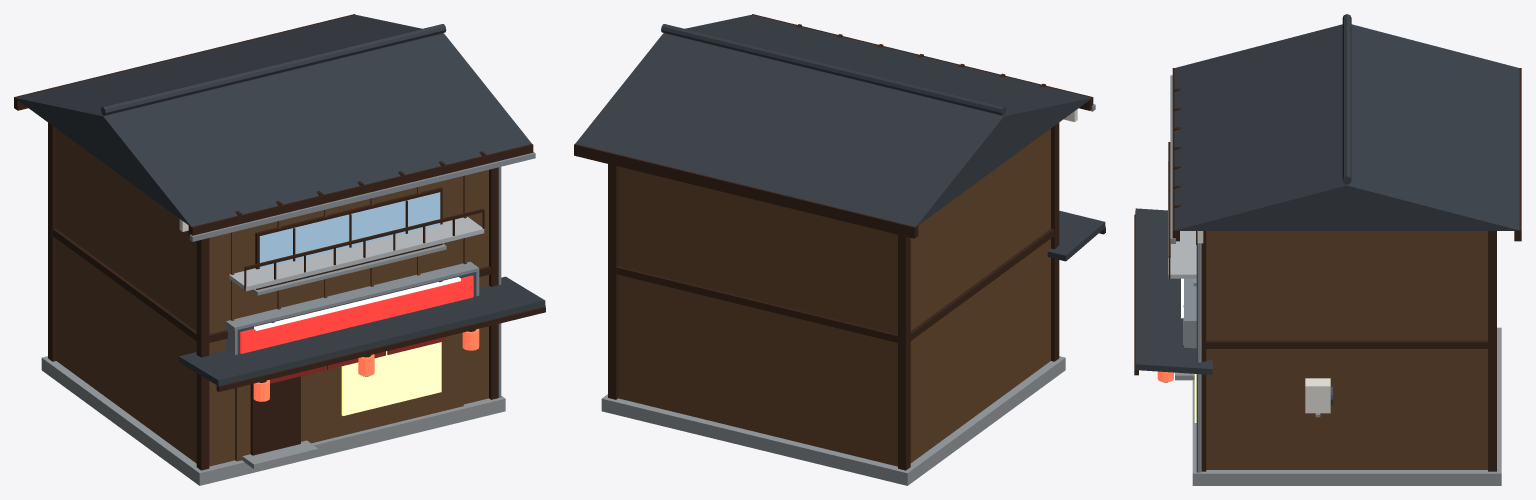
The model's file is shop_yatai_2f.glb.
3 views of the same model, side by side, from view 1: azimuth 30°, elevation 25°; view 2: azimuth 150°, elevation 25°; view 3: azimuth 270°, elevation 25° (orthographic). The views are drawn at different scales.
Visible parts, largest first — view 1: roof.022, body.045, eave.022, panel.012, base.045, win_glass.059, panel_glass.012, sign_face.038, balcony_slab.049, ridge.022, eave_front.022, door.041 (+14 smaller); view 2: body.045, roof.022, base.045, eave_back.022, beam.099, ridge.022, post.184, post.186, post.183, eave.022, eave_front.022; view 3: body.045, roof.022, eave.022, base.045, beam.099, post.186, ridge.022, post.185, downpipe.020, balcony_slab.049, ac_body.056, eave_back.022 (+3 smaller).
Part boxes in pixels (x1,y1,x2,y2): roof.022: (15, 14, 531, 226); body.045: (56, 129, 488, 466); eave.022: (179, 276, 545, 386); panel.012: (235, 332, 463, 461); base.045: (41, 356, 505, 485); win_glass.059: (259, 192, 440, 268); panel_glass.012: (341, 342, 441, 415); sign_face.038: (240, 275, 473, 353); balcony_slab.049: (229, 216, 484, 291); ridge.022: (101, 24, 446, 115); eave_front.022: (188, 144, 533, 236); door.041: (250, 376, 300, 455); body.045: (618, 129, 1050, 466); roof.022: (575, 15, 1092, 226); base.045: (601, 356, 1065, 485); eave_back.022: (574, 144, 918, 238); beam.099: (616, 228, 1054, 342); ridge.022: (661, 24, 1006, 115); post.184: (898, 234, 910, 470); post.186: (608, 164, 618, 399); post.183: (1051, 122, 1059, 361); eave.022: (1047, 210, 1105, 261); eave_front.022: (752, 14, 1093, 110); body.045: (1206, 231, 1487, 469); roof.022: (1174, 24, 1519, 230); eave.022: (1135, 208, 1212, 374); base.045: (1192, 327, 1501, 485); beam.099: (1206, 340, 1487, 348); post.186: (1488, 231, 1496, 471); ridge.022: (1342, 14, 1351, 184); post.185: (1201, 231, 1206, 471); downpipe.020: (1196, 231, 1201, 472); balcony_slab.049: (1168, 161, 1196, 278); ac_body.056: (1305, 378, 1330, 413); eave_back.022: (1514, 68, 1521, 241).
Bounding box in the file's own units: 8.5 × 7.7 × 8.5.
